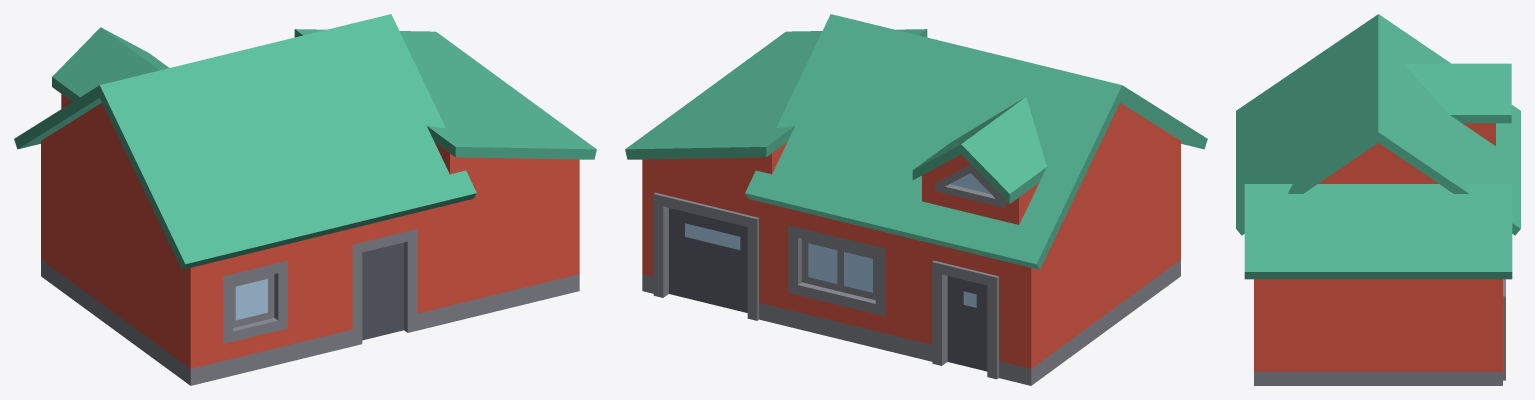
Rendered from house_type04.dae.
3 renders of one model, left to right at view 1: azimuth 30°, elevation 25°; view 2: azimuth 150°, elevation 25°; view 3: azimuth 270°, elevation 25°, orthographic. The views are drawn at different scales.
Visible parts, largest first — view 1: house_type04; view 2: house_type04; view 3: house_type04.
Part boxes in pixels (<box>): house_type04: <box>14,14,596,385</box>; house_type04: <box>625,14,1207,385</box>; house_type04: <box>1236,14,1520,385</box>.
Size of the model in its own units: 1.29 by 0.7375 by 0.916.
